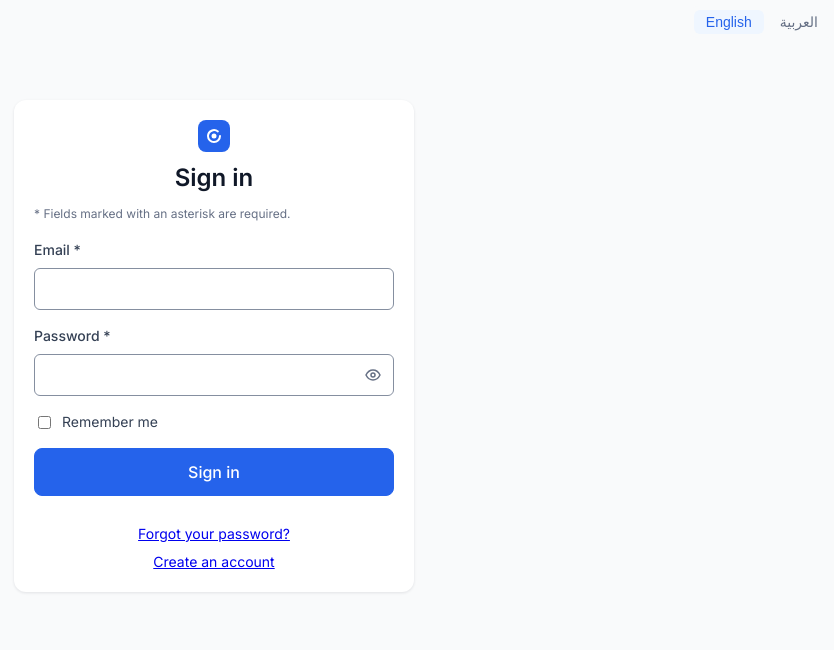
Test case: SignInPage › maps INVITE_PENDING to the invite-pending message
Type "a@b.com" into the field labelled "Email *".
click(214, 289); type("a@b.com")  # box [47,269,381,309]
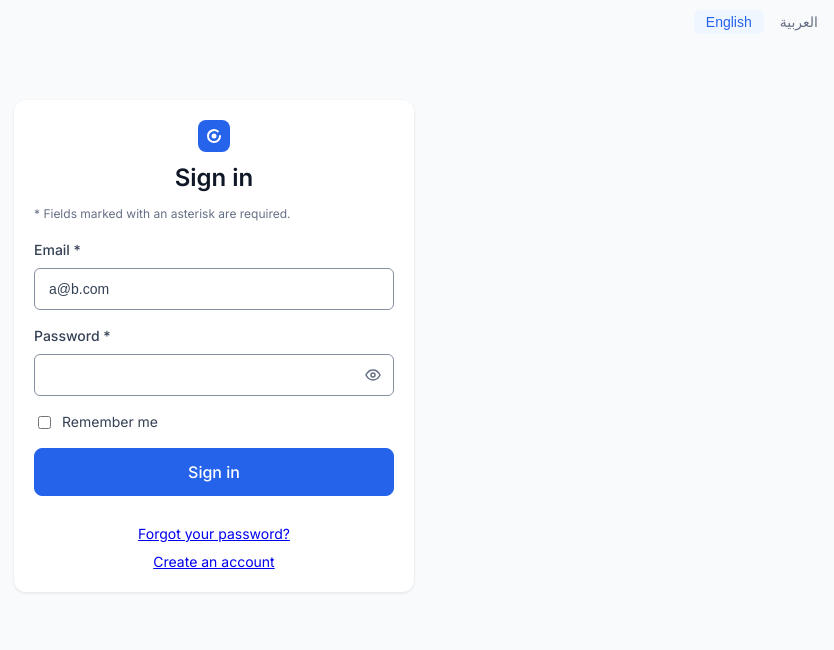
Type "Passw0rd!" into the password field labelled "Password *".
click(202, 375); type("Passw0rd!")  # box [47,355,357,395]
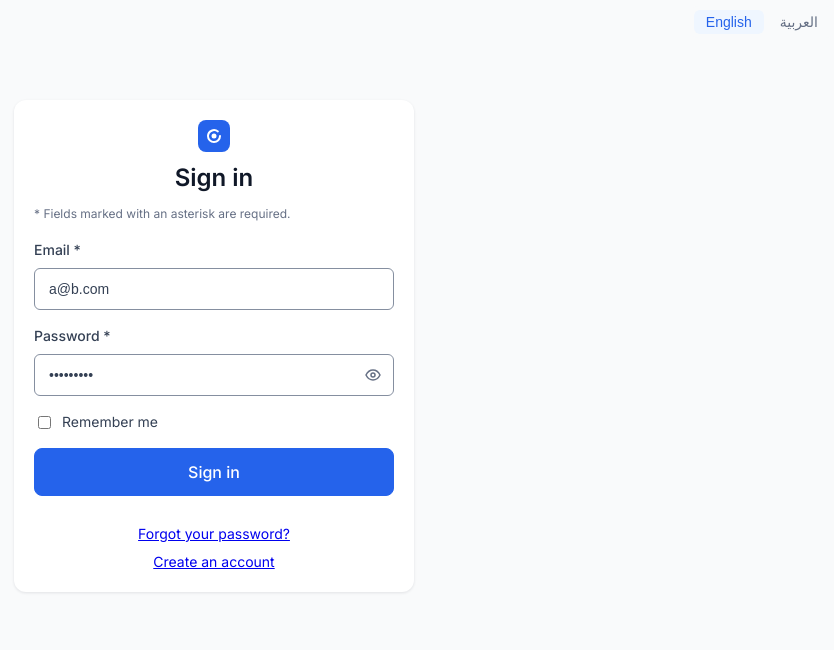
Click the button "Sign in".
click(214, 472)  # box [34,448,394,496]
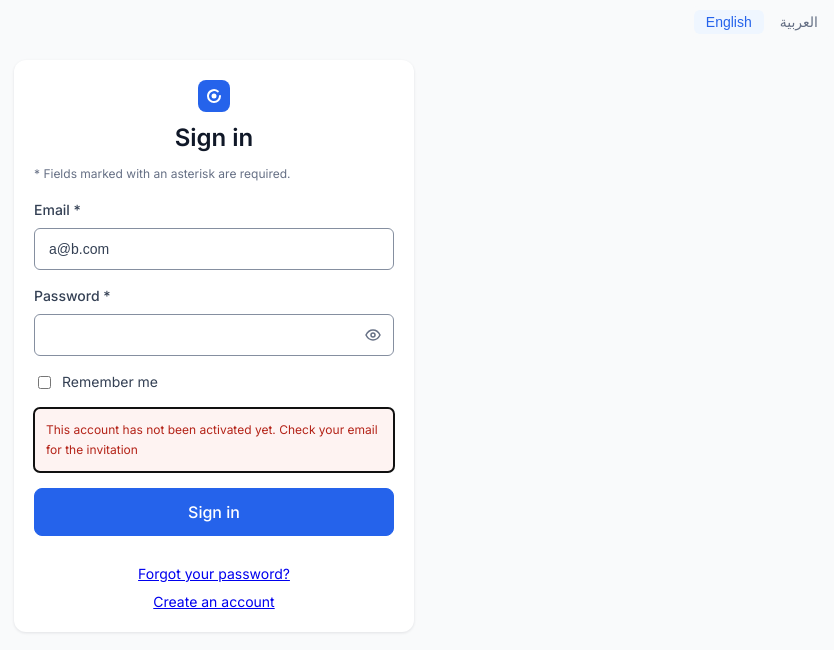
Check: the text "This account has not been activated yet. Check your email for the invitation" is shown, box [34,408,394,472]
